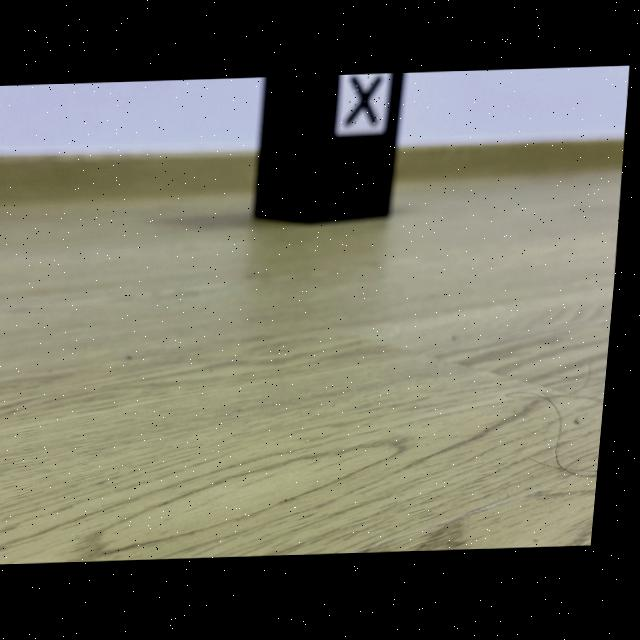X: (348, 78, 382, 125)
